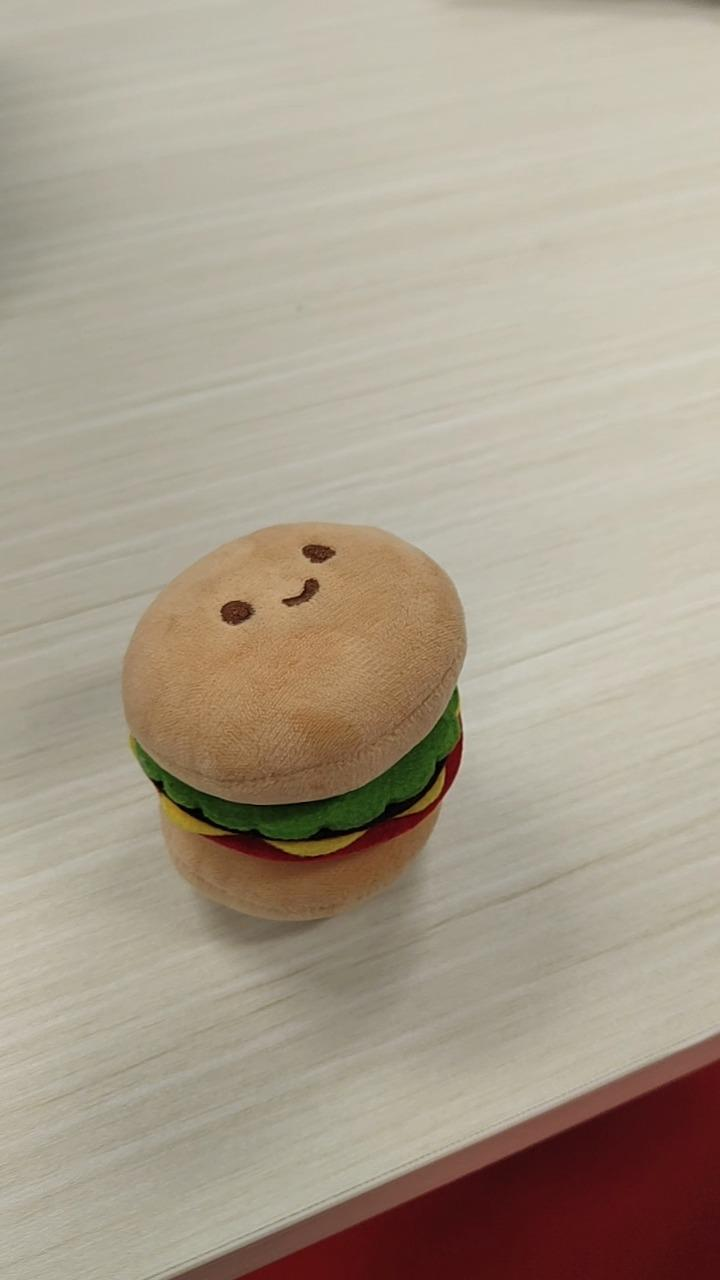hamburger: (120, 519, 468, 923)
